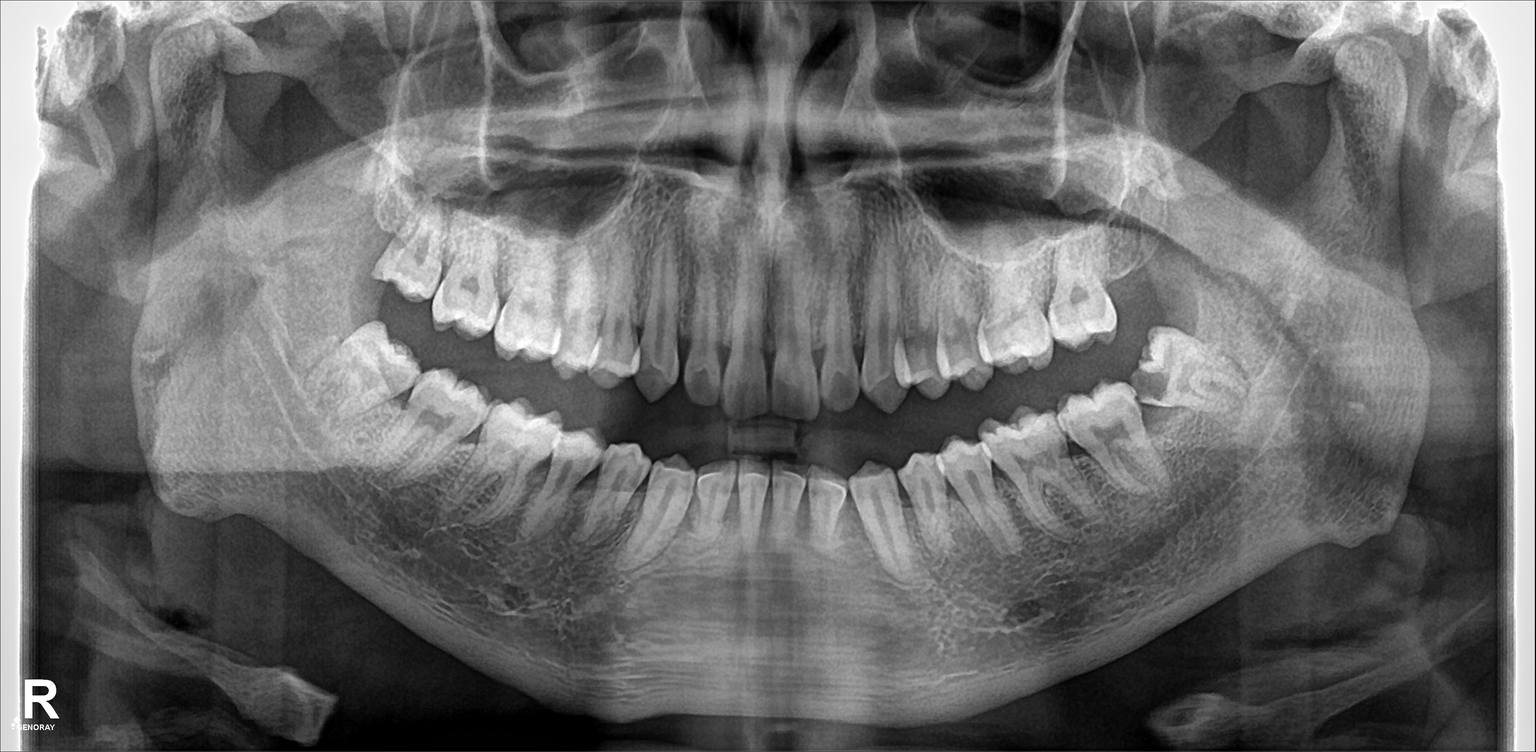Dental Caries: (1127, 369, 1171, 405), (832, 376, 855, 404)
Impacted Third Molar: (307, 333, 420, 414), (1138, 337, 1245, 414)
Missing Tooth: (1114, 222, 1162, 316)
